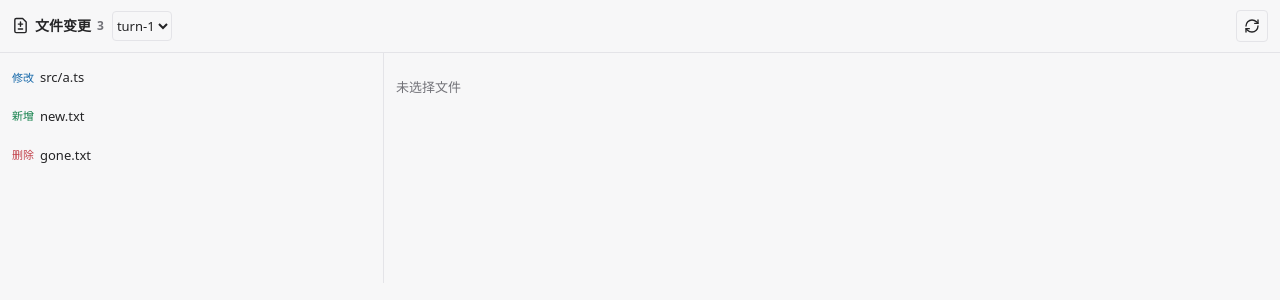
Test: FileReview › shows binary summary without rendering text diff
Step 1. Click the button "修改 src/a.ts" → [62, 77], box [6,59,377,96]
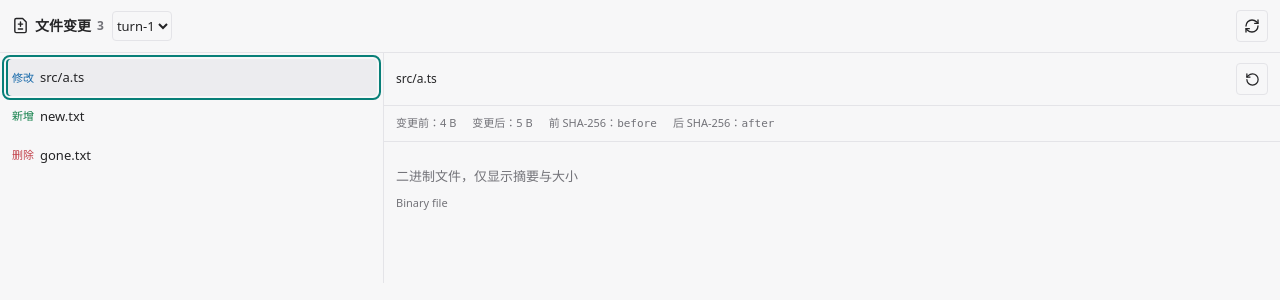
Check: the text "二进制文件，仅显示摘要与大小 Binary file" is shown, box [396,167,578,210]
Check: the text "变更前：4 B" is shown, box [396,114,456,133]
